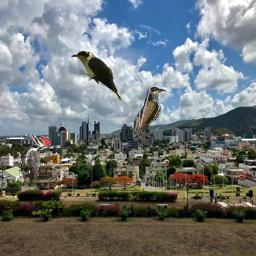Cuckoo: (70, 51, 121, 102), (133, 87, 174, 138)
Woodpecker: (17, 131, 51, 187)
